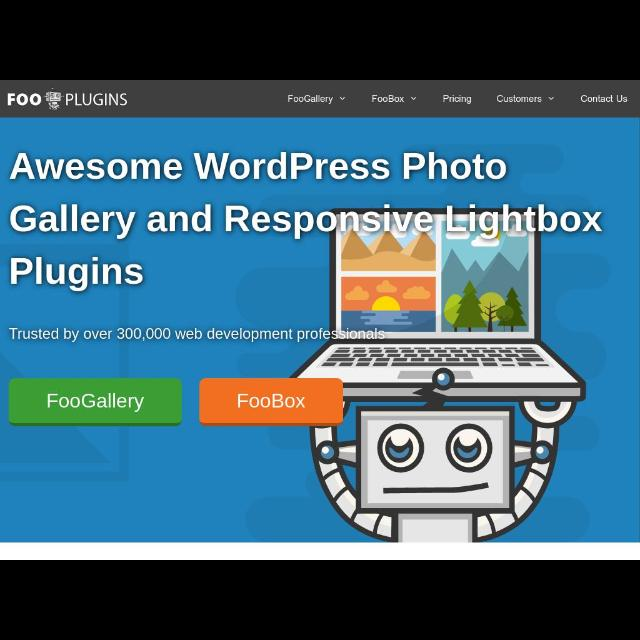backgroundimage: (1, 118, 639, 542)
icon: (547, 95, 555, 102), (409, 95, 416, 102), (338, 95, 346, 101)
image: (5, 88, 128, 110)
spinner: (492, 88, 558, 109), (283, 90, 351, 106), (370, 89, 420, 107)
text: (7, 148, 605, 294), (8, 326, 388, 340), (46, 389, 144, 413), (237, 392, 305, 408), (286, 92, 334, 104), (496, 94, 542, 105), (580, 94, 628, 104), (442, 93, 472, 103), (372, 94, 403, 102)
textbutton: (9, 379, 181, 425), (198, 378, 342, 424)
toolbar: (1, 81, 639, 117)
